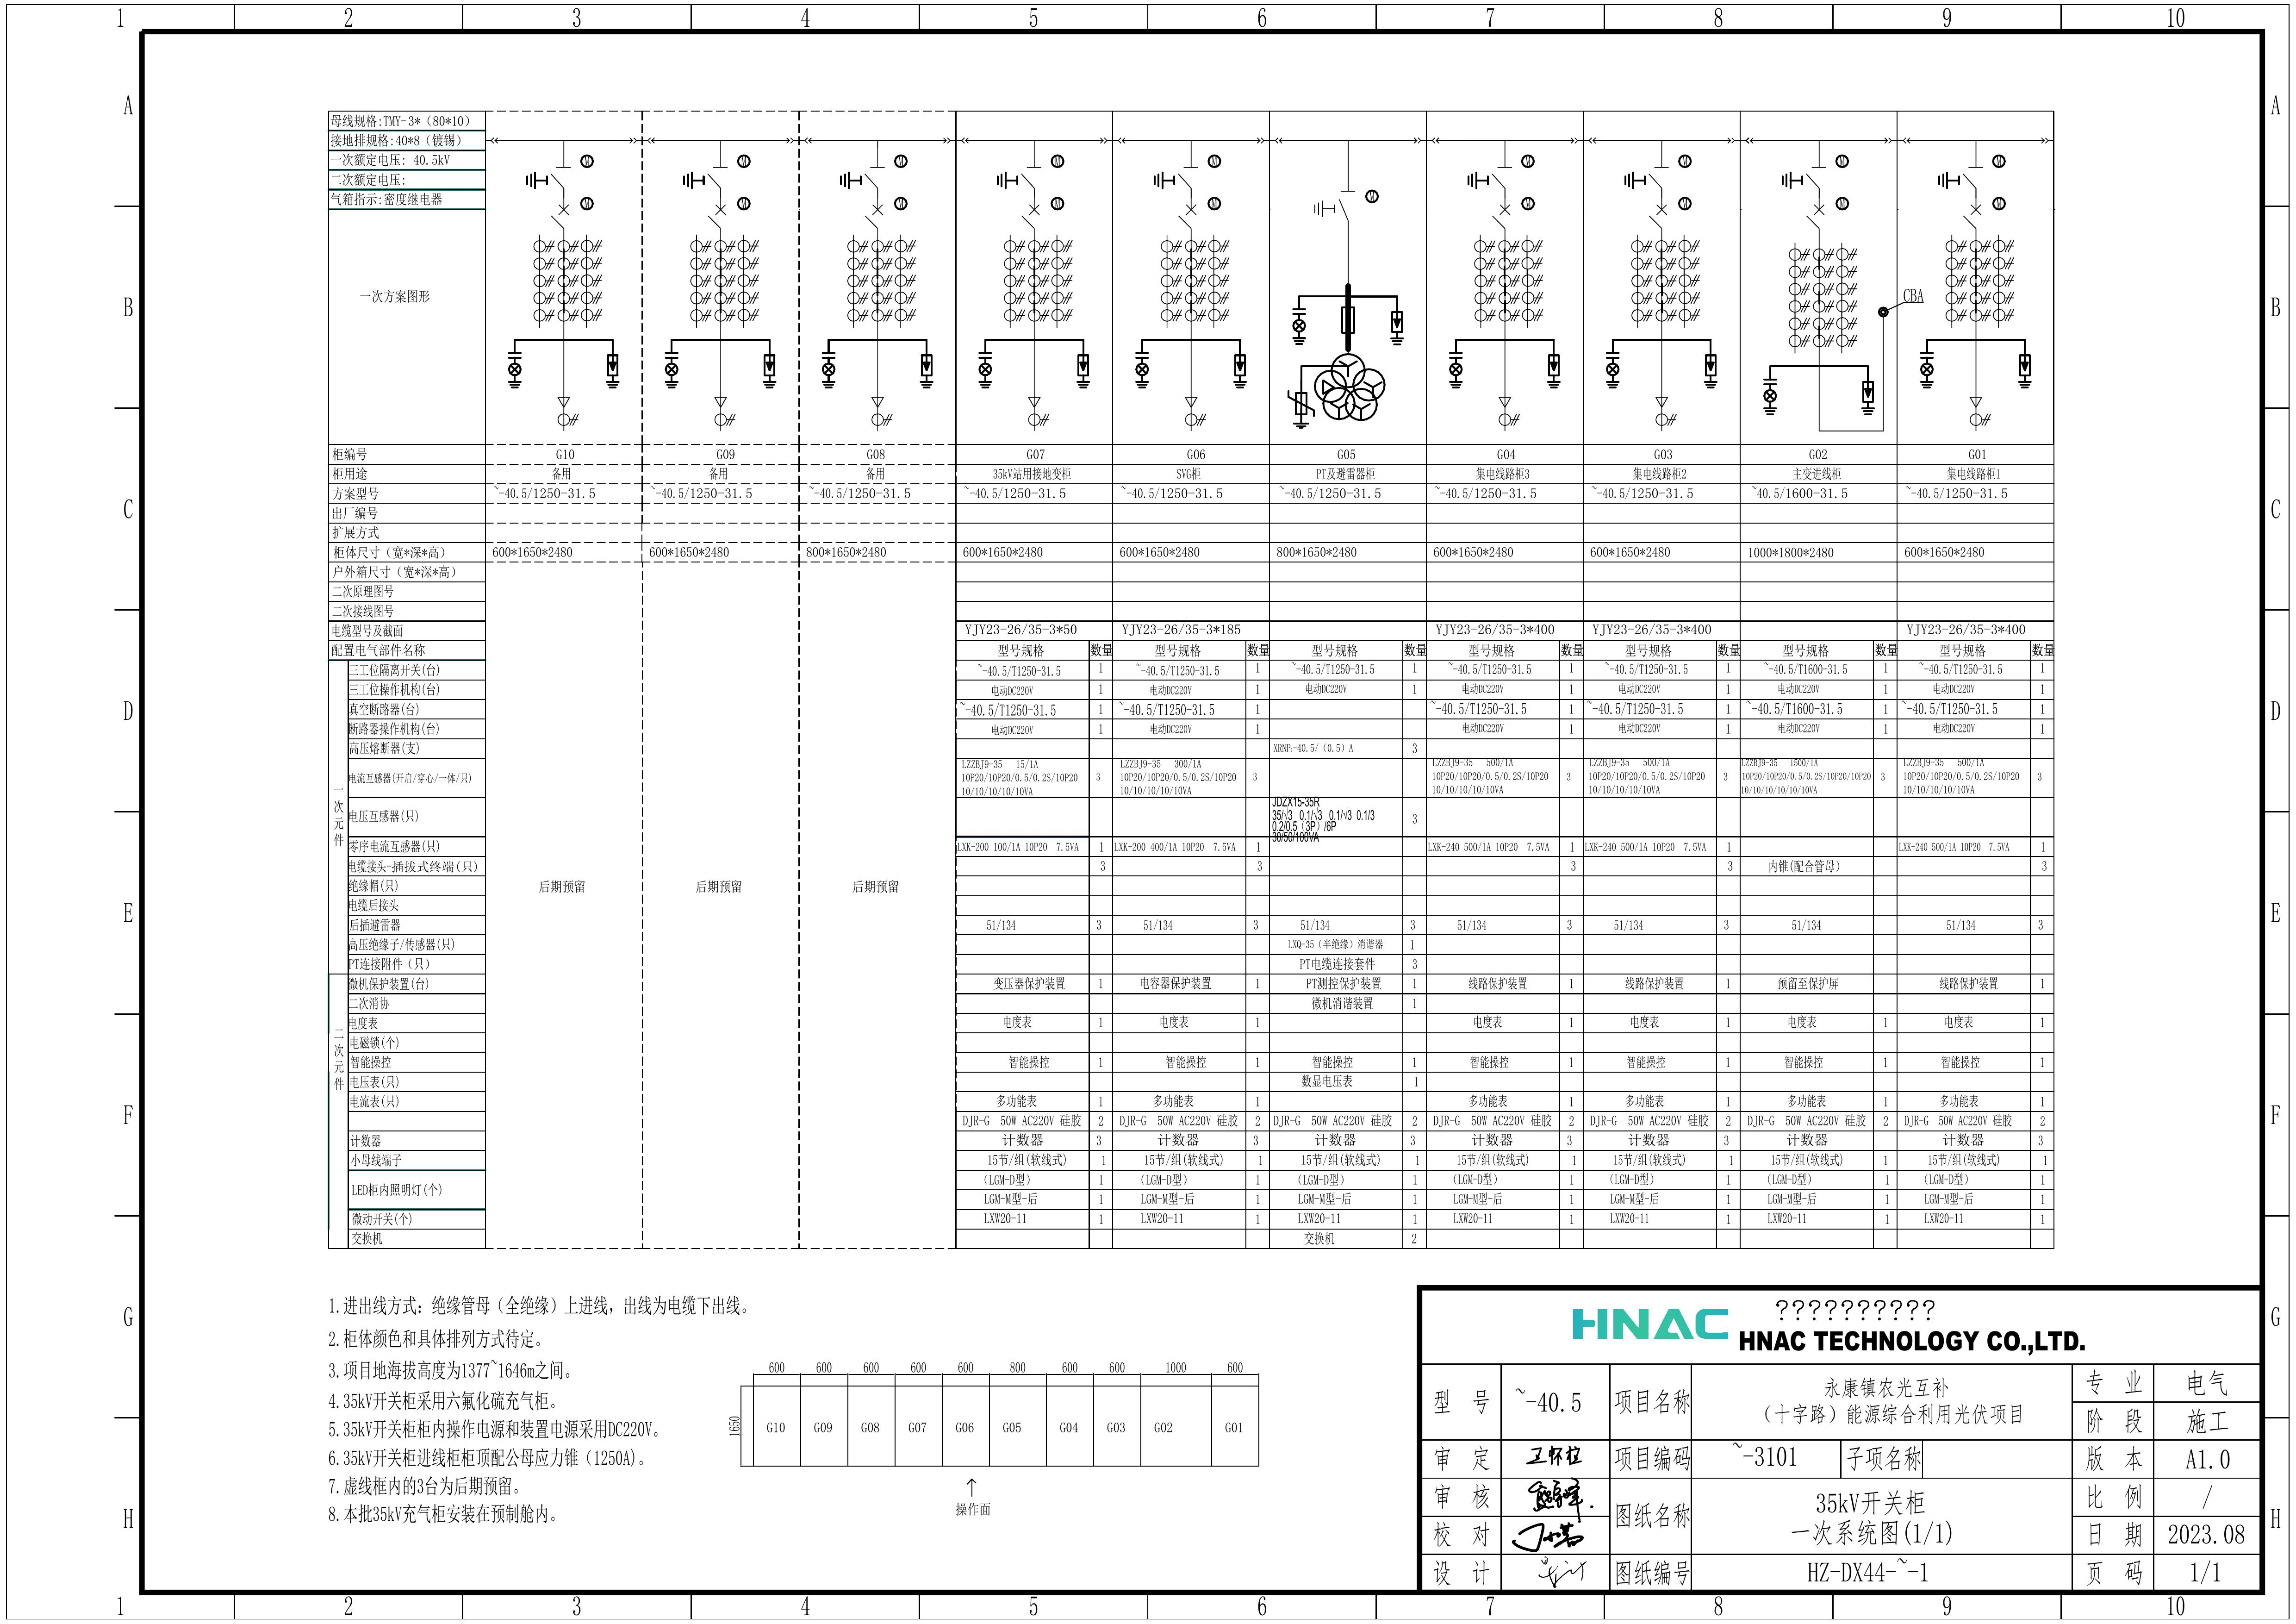diagram-EKfo: (1425, 139, 1595, 460), (953, 139, 1117, 462), (1270, 141, 1433, 460), (636, 132, 793, 462), (1891, 134, 2048, 458), (801, 130, 952, 461), (1738, 139, 1888, 462), (498, 130, 634, 468), (1122, 137, 1266, 456), (1599, 139, 1737, 467)
